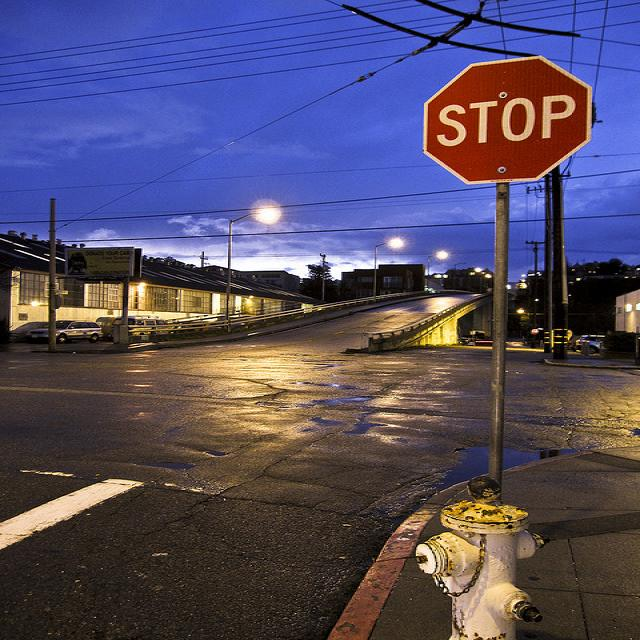Vehicle: (25, 320, 103, 344), (575, 334, 606, 354)
